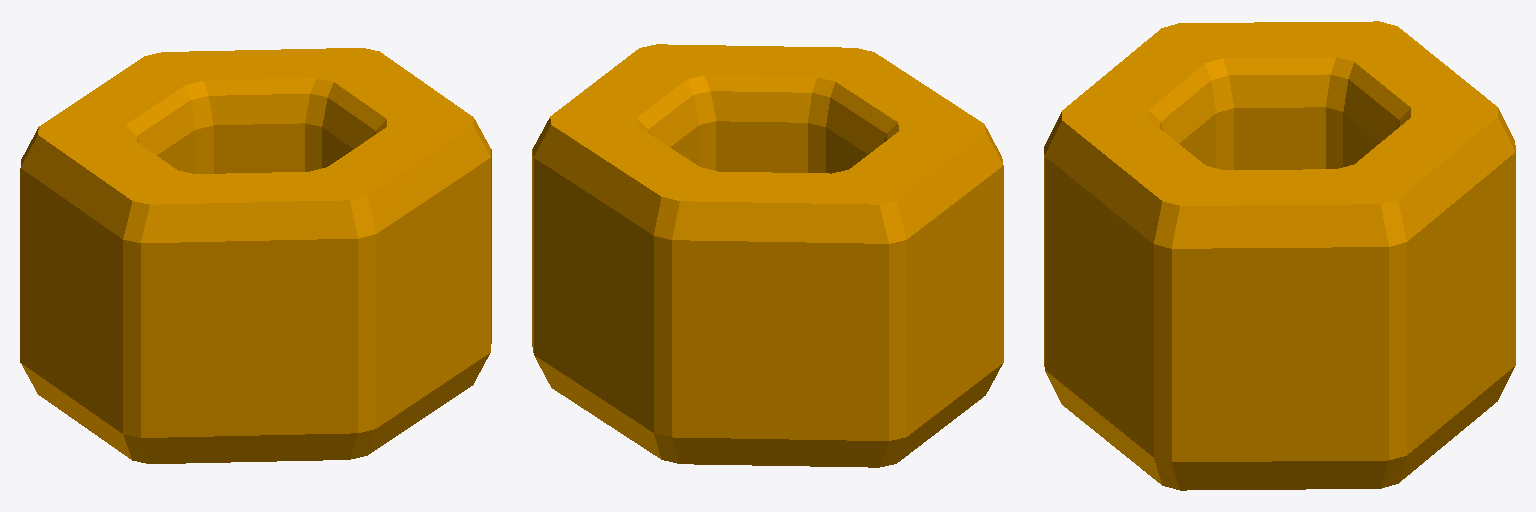
URDF robot description (cap_screw_size4):
<robot name="cap_screw_size4">
  <link name="cap_screw_size4">

    <!-- rosrun gazebo_ros spawn_model -file $(rospack find ur5_single_arm_tufts)/urdf/objects/table.urdf -urdf -x 0.5 -y -0 -z 0.75 -model table -->
    
    <inertial>
      <origin xyz="0 0 0" rpy="0 0 0" />
      <mass value="0.55"/>
      <inertia
        ixx="0.000189583" ixy="0.0" ixz="0.0"
        iyy="0.000189583" iyz="0.0"
        izz="0.0003125"/>
    </inertial>

    <visual>
      <geometry>
        <!--    <mesh filename="package://ur5_single_arm_tufts/urdf/objects/capscrew_size4.obj"/> -->>
        <mesh filename="package://ur5_single_arm_tufts/urdf/objects/capscrew_size4_new4_3.stl"/>
      </geometry>
    </visual>

    <collision>
      <geometry>
        <mesh filename="package://ur5_single_arm_tufts/urdf/objects/capscrew_size4_new4_3.stl"/>
            <!--  scale = 0.045 -->
      </geometry>
    </collision>

  </link>

  <gazebo reference="cap_screw_size4">
    <material>Gazebo/Blue</material>
  </gazebo> 

  <gazebo>
     <mu1>100000</mu1>
     <mu2>100000</mu2><!-- 
     <static>true</static> -->
  </gazebo>

</robot>

--- What the picture shows (computed from the rendered views, not written in the file) ---
Views: 3 orthographic renders of the robot side by side, from view 1: azimuth 30°, elevation 25°; view 2: azimuth 150°, elevation 25°; view 3: azimuth 270°, elevation 25°.
Robot: cap_screw_size4 — 1 links, 0 joints (none); root link cap_screw_size4; default pose: every joint at zero.
Visible links, largest first — view 1: cap_screw_size4; view 2: cap_screw_size4; view 3: cap_screw_size4.
Boxes of the visible links, <box> form: cap_screw_size4: <box>20,48,491,463</box>; cap_screw_size4: <box>532,44,1003,467</box>; cap_screw_size4: <box>1044,21,1515,490</box>.
Bounding box of the posed robot: 0.06 × 0.06 × 0.04 m (x, y, z).
Meshes: 1 distinct files referenced, 1 mesh visuals loaded (1 binary STL).
